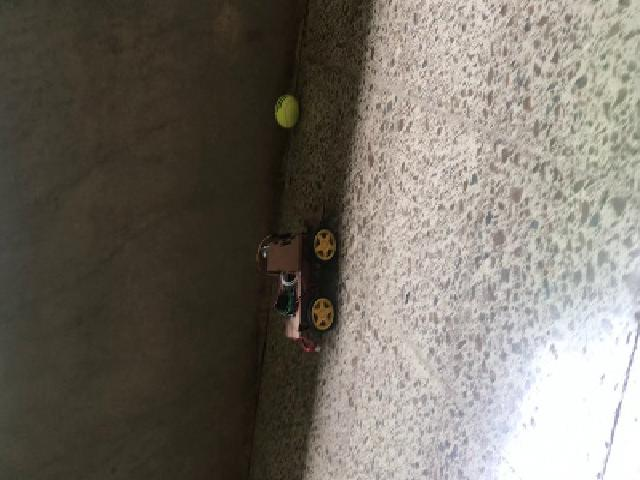Ball: (275, 95, 299, 127)
Robot: (256, 203, 338, 338)
